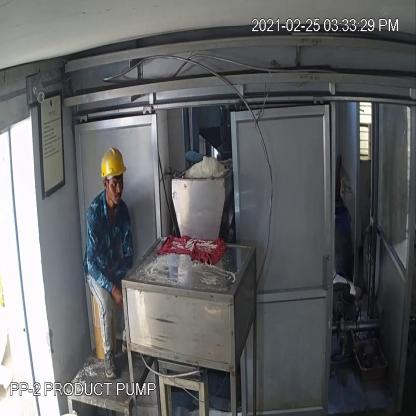helmet: (100, 148, 128, 192)
